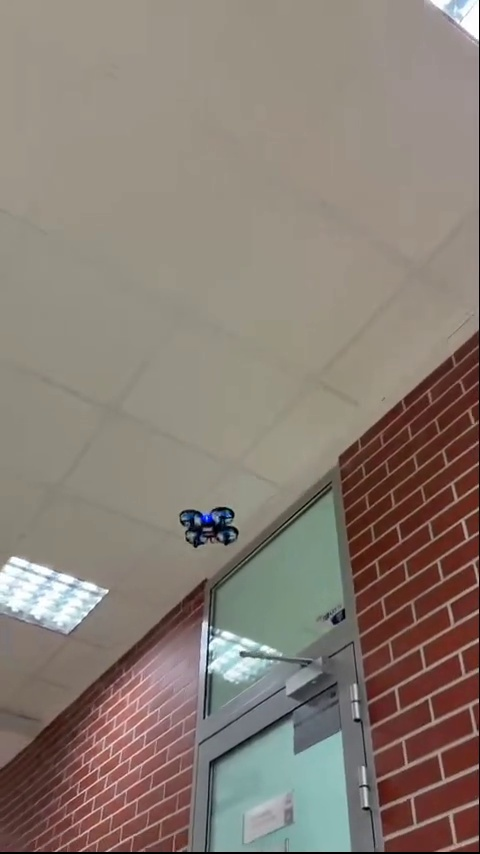drone: (182, 509, 237, 553)
